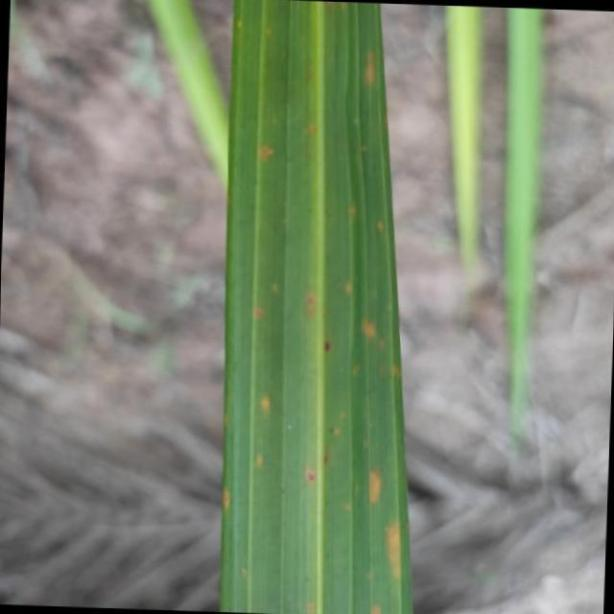Kalium: (221, 0, 409, 614)
